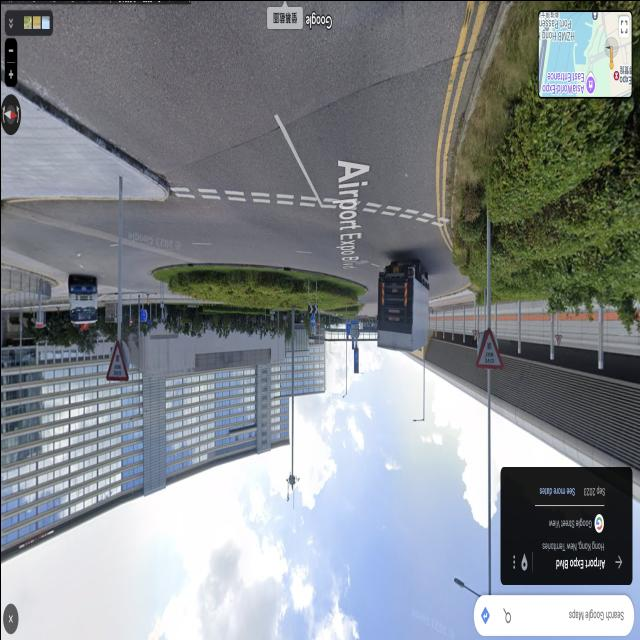Direction-Sign: (140, 309, 147, 321), (350, 319, 358, 323)
Order-Sign: (310, 315, 314, 325), (317, 321, 319, 326)
Warning-Sign: (475, 327, 502, 369), (105, 340, 127, 380), (471, 329, 479, 341), (553, 335, 561, 345)
